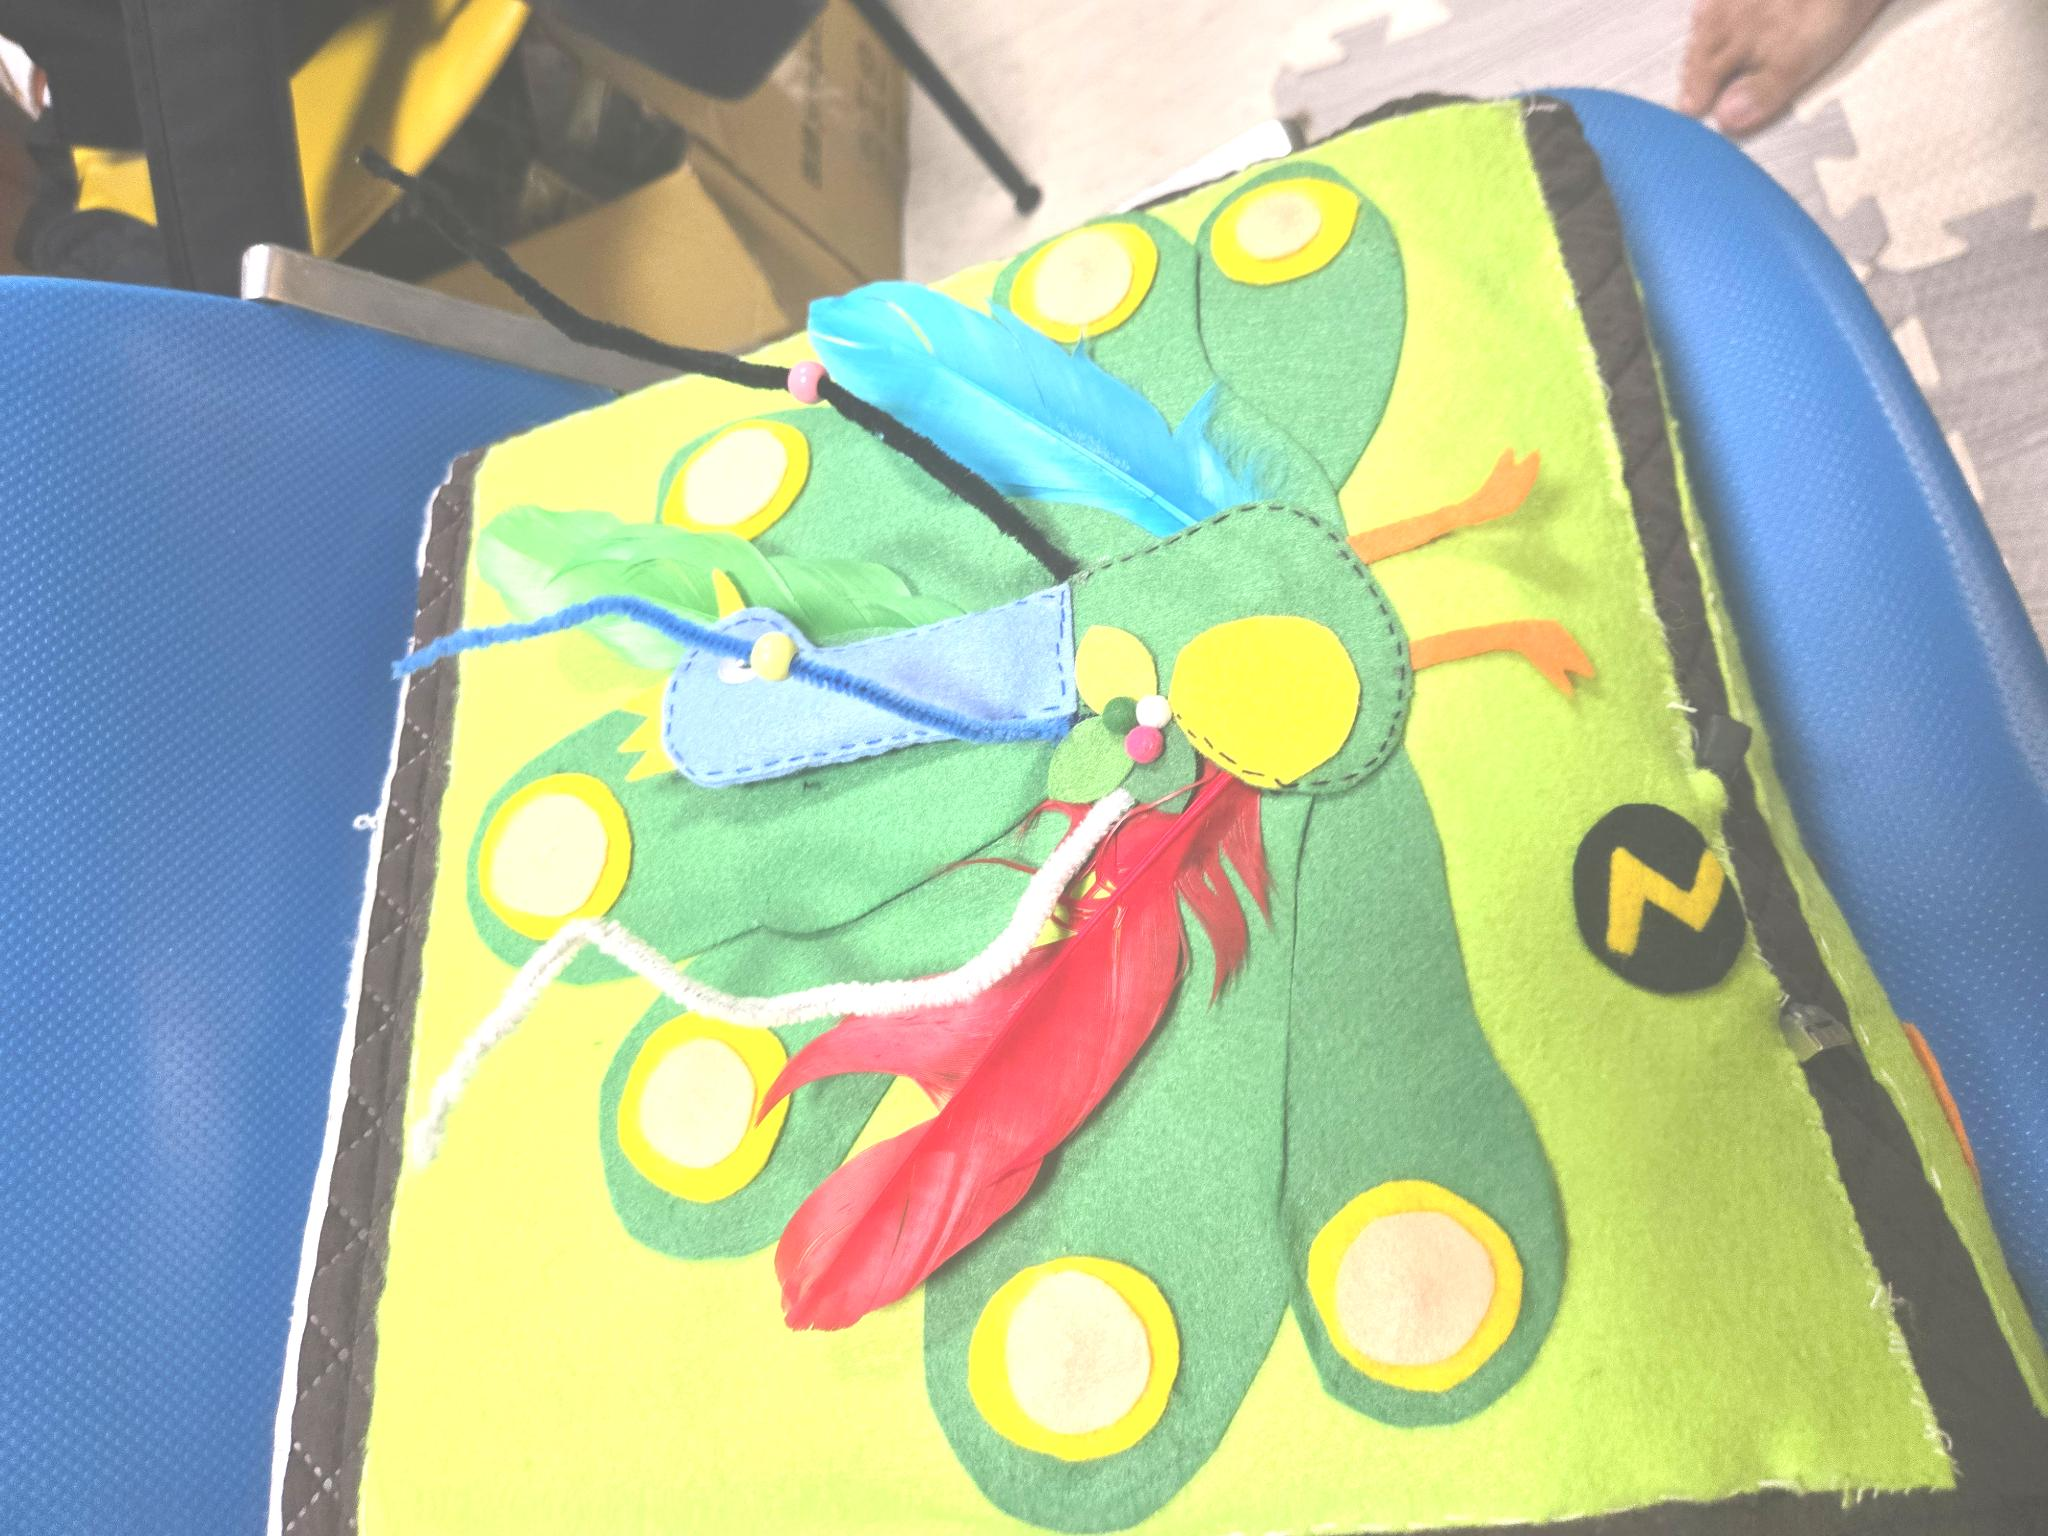bead: (779, 344, 858, 415), (748, 620, 813, 699)
